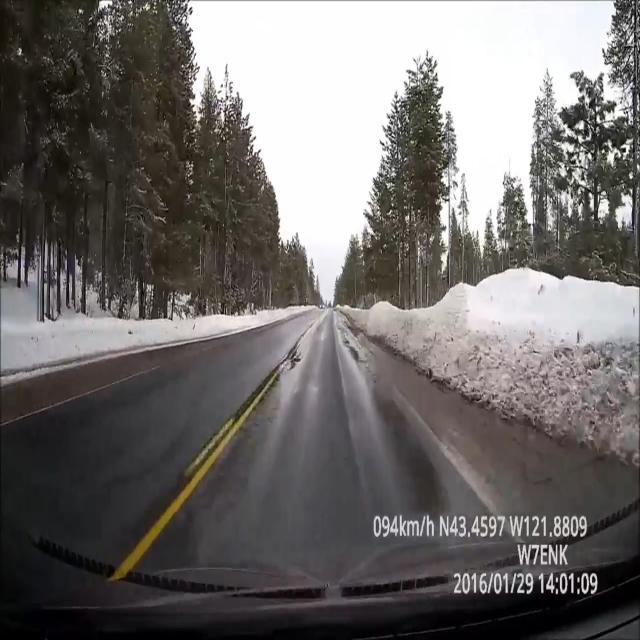Pothole: (289, 345, 303, 371)
